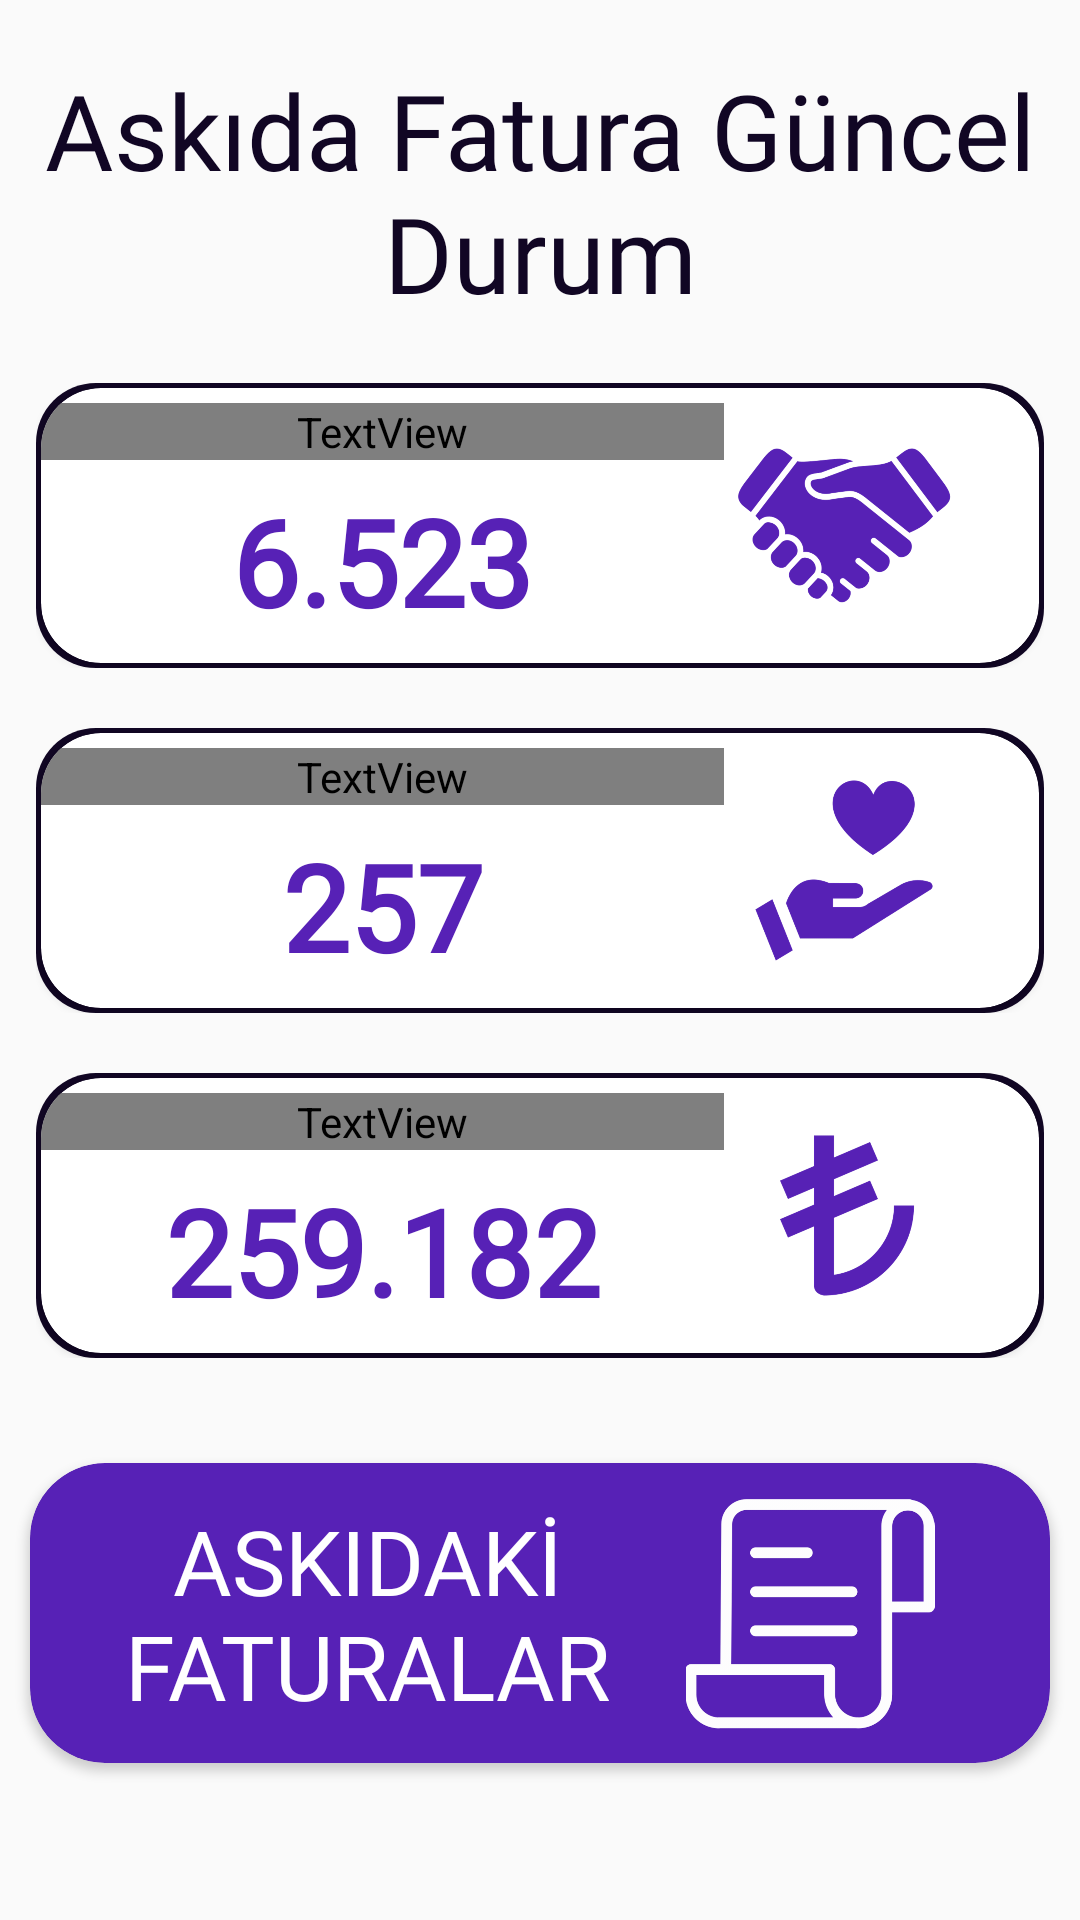

Named icons in this screenshot (1080w x 1920h) and their bounding boxes, {"x1": x1, "y1": y1, "x2": x2, "y2": y2}:
fatura al: {"x1": 686, "y1": 1499, "x2": 935, "y2": 1729}
handshake: {"x1": 738, "y1": 448, "x2": 950, "y2": 603}
heart hand: {"x1": 755, "y1": 780, "x2": 933, "y2": 961}
lira: {"x1": 780, "y1": 1135, "x2": 914, "y2": 1296}
